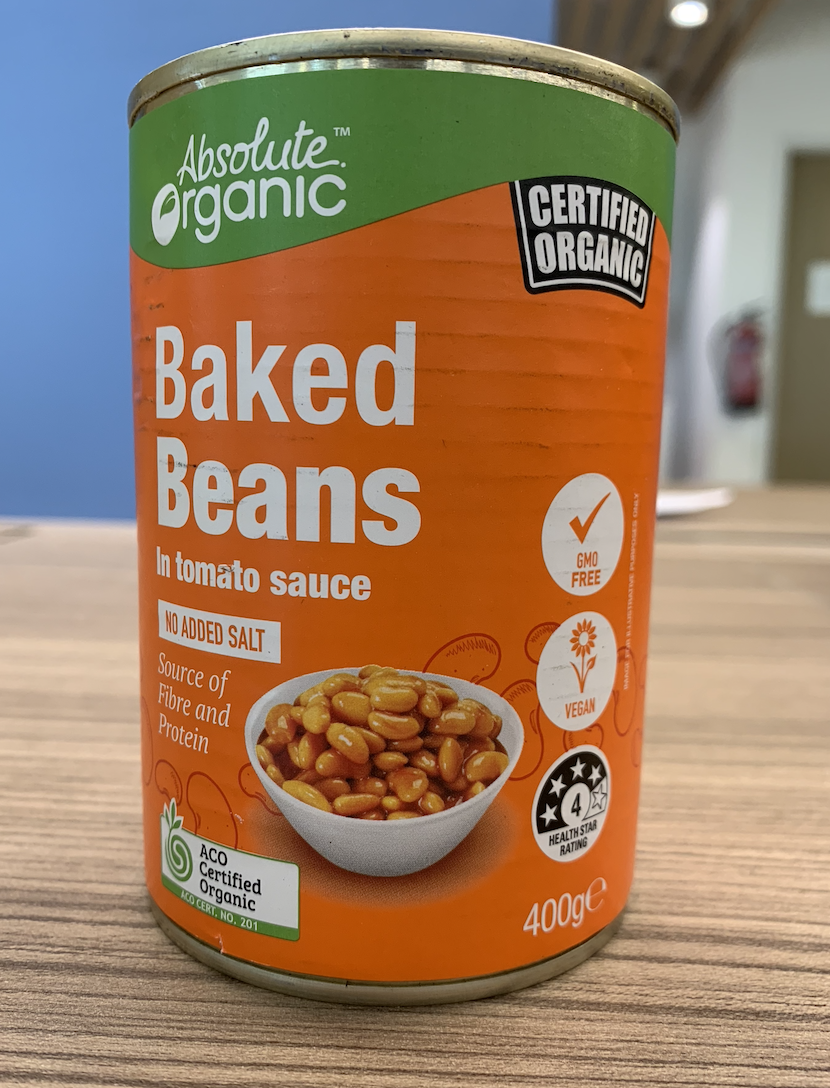Baked beans_450g: (148, 101, 659, 952)
